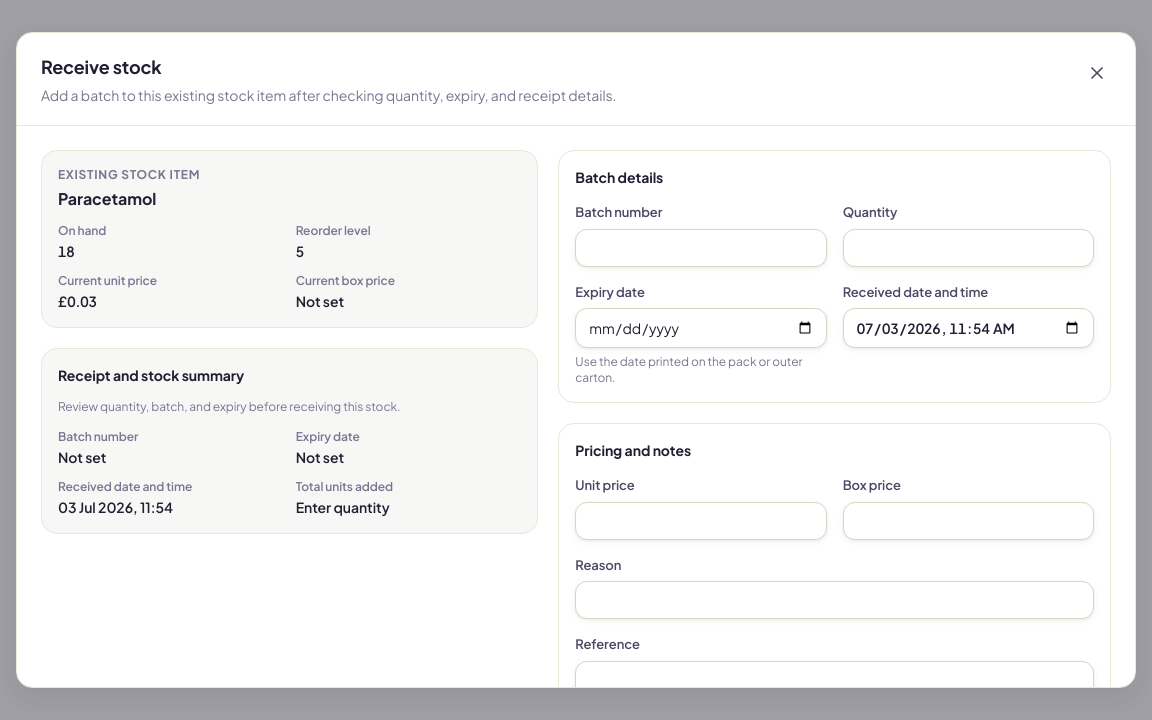
Test: ReceiveStockModal › renders backend field errors
The image size is (1152, 720).
In the field labelled "Batch number": coordinates (701, 248) [575,228,827,266], type "LOT-100"
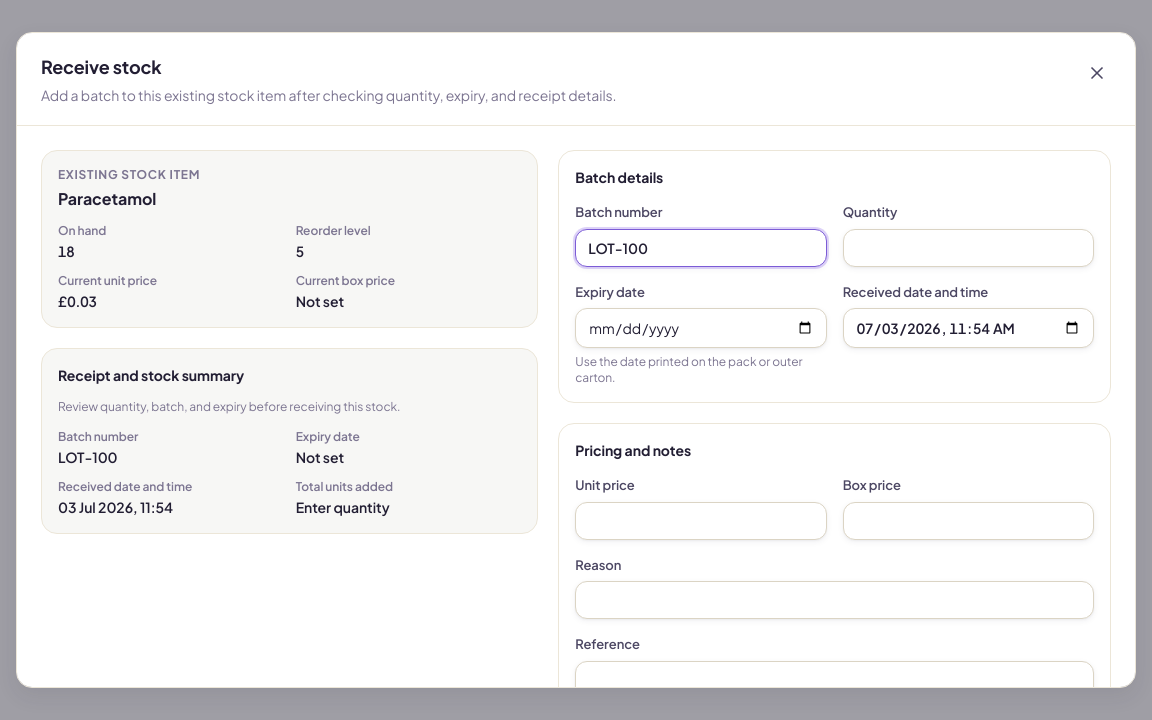
In the date field labelled "Expiry date": coordinates (701, 328) [575,308,827,348], type "2027-01-31"
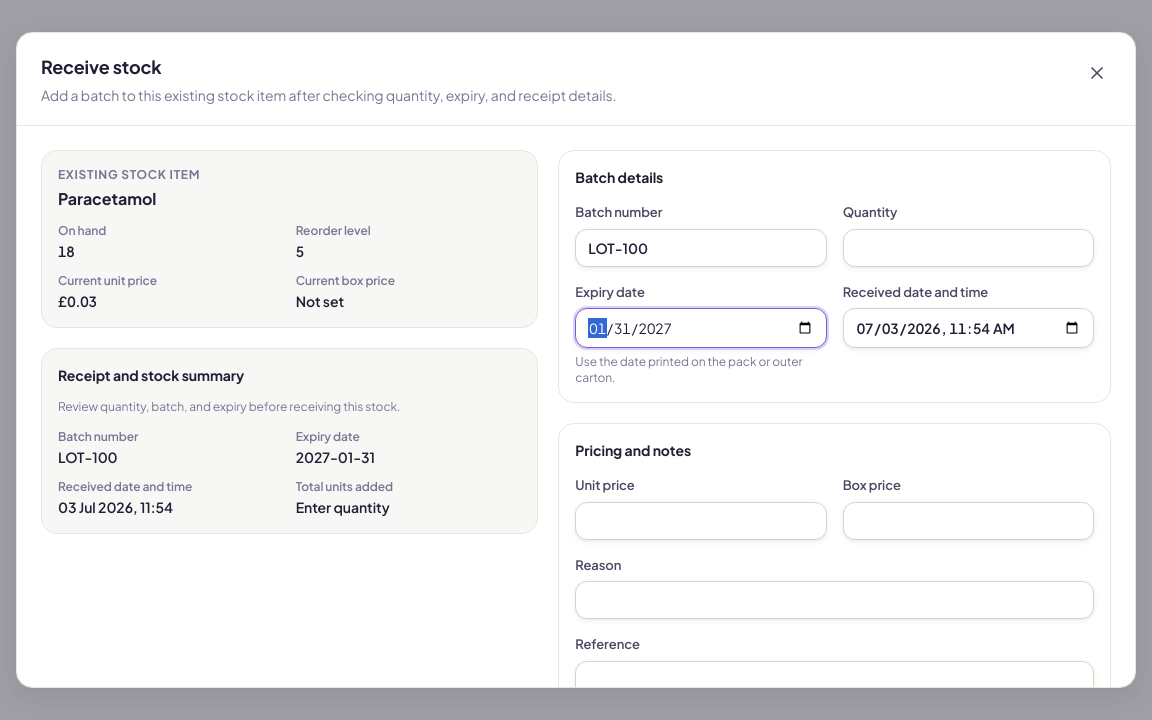
In the number field labelled "Quantity": coordinates (968, 248) [843,228,1094,266], type "12"
(page scrolled)
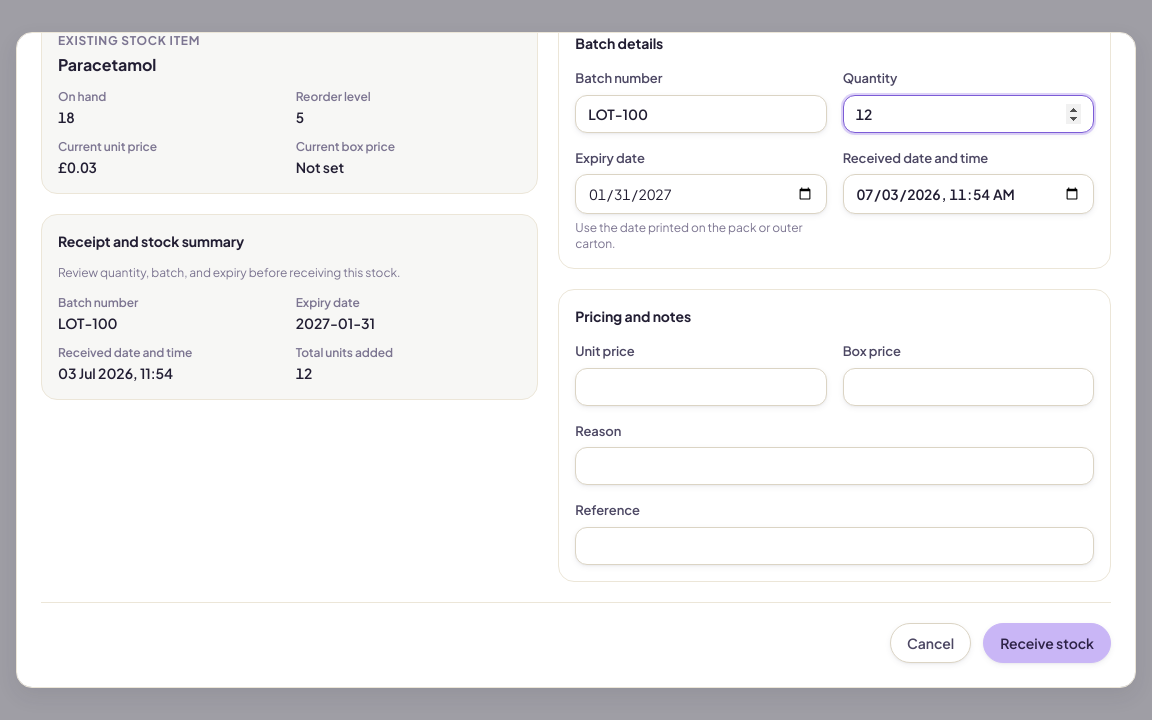
Click the button "Receive stock": coordinates (1047, 642) [983,622,1111,662]
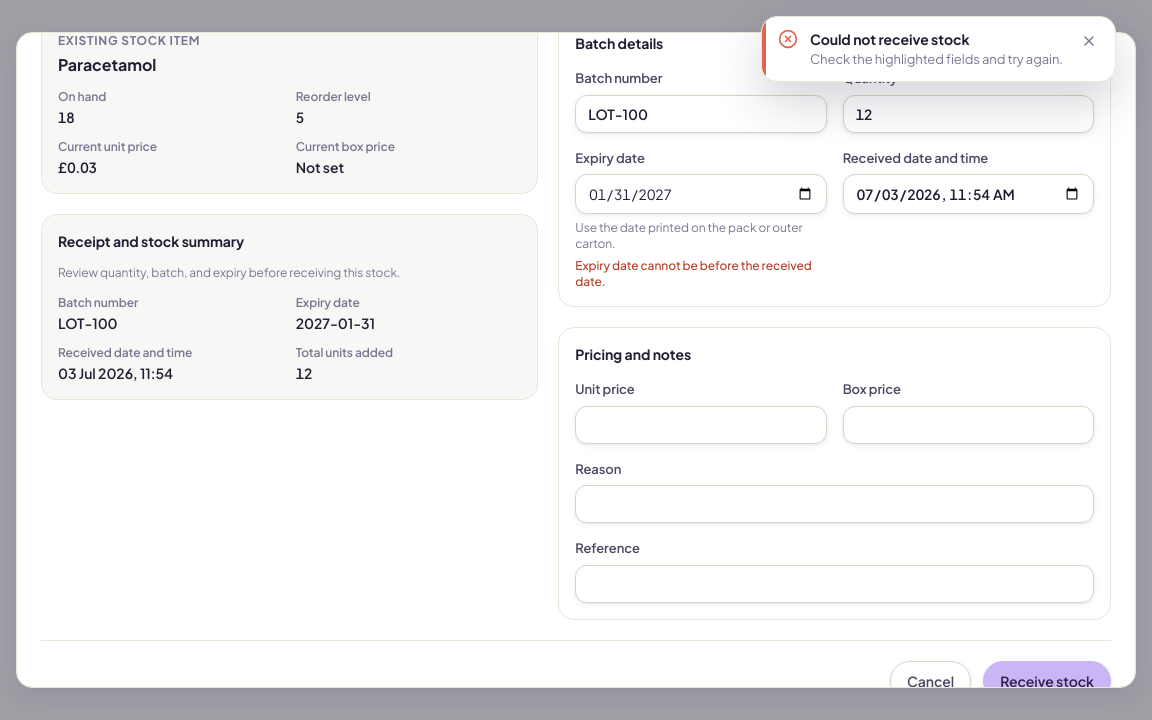
Now the list item "Expiry date cannot be before the received date." is shown, box [575,258,827,290]
